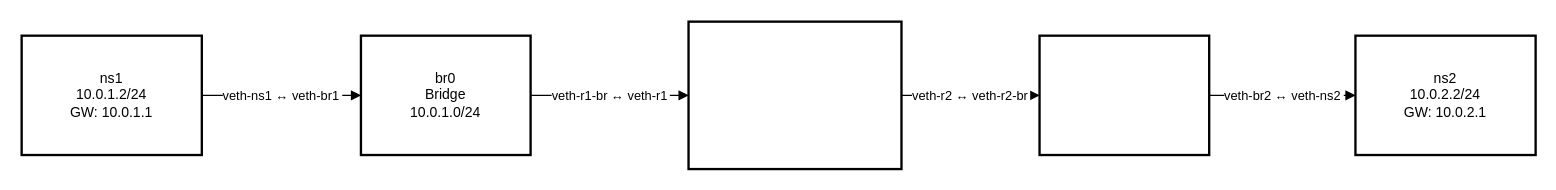
Image size: 1556x190. Some labels were removed from this diagram. The shapes that lost their labels are listed below. From the top down, each one's centre as x and y in pixels, then its label:
At point 794,95: "router-ns veth-r1: 10.0.1.1 veth-r2: 10.0.2.1 IP Forwarding".
At point 1124,95: "br1 Bridge 10.0.2.0/24".
